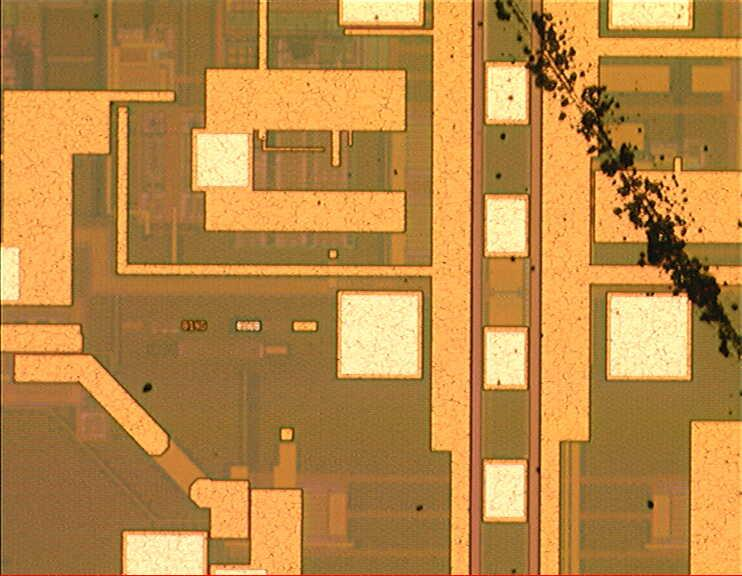SCRATCH: (481, 1, 742, 395)
